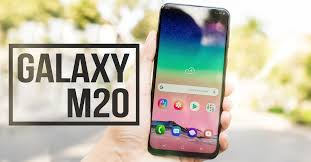samsung: (145, 1, 231, 160)
